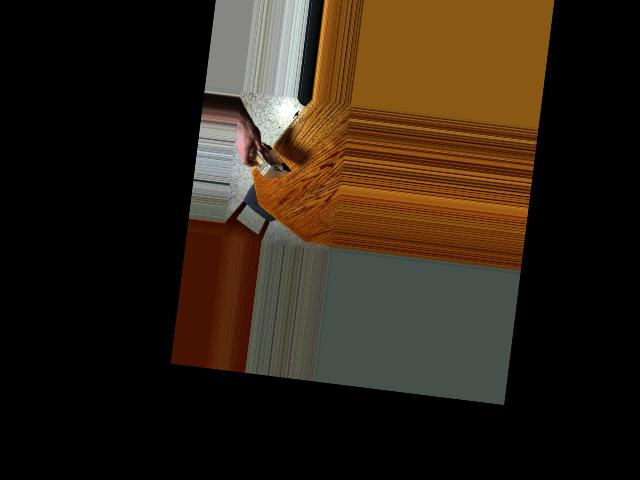cheese: (244, 135, 289, 189)
